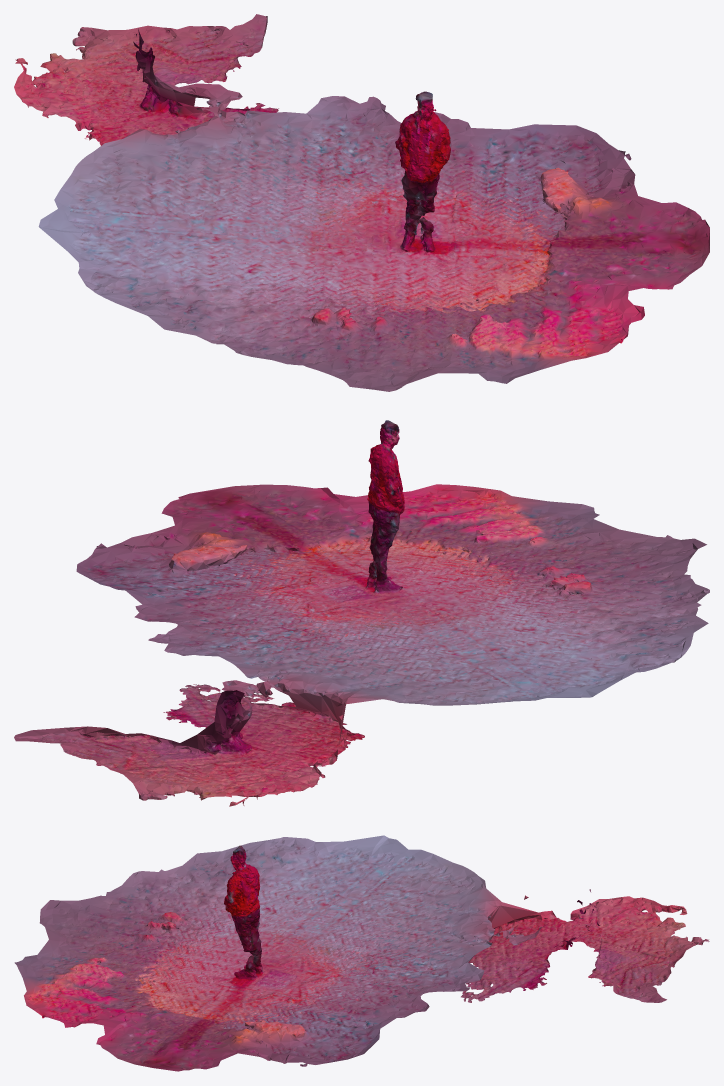
File: if-you-could-do-it-all-again-2.glb
3 renders of one model, top to bottom at view 1: azimuth 30°, elevation 25°; view 2: azimuth 150°, elevation 25°; view 3: azimuth 270°, elevation 25°, orthographic. The views are drawn at different scales.
Visible parts, largest first — view 1: geometry_0; view 2: geometry_0; view 3: geometry_0.
Part boxes in pixels (<box>): geometry_0: <box>14,14,709,391</box>; geometry_0: <box>14,420,709,806</box>; geometry_0: <box>14,835,709,1071</box>.
Bounding box in the file's own units: 1.26 × 0.3852 × 1.71.
